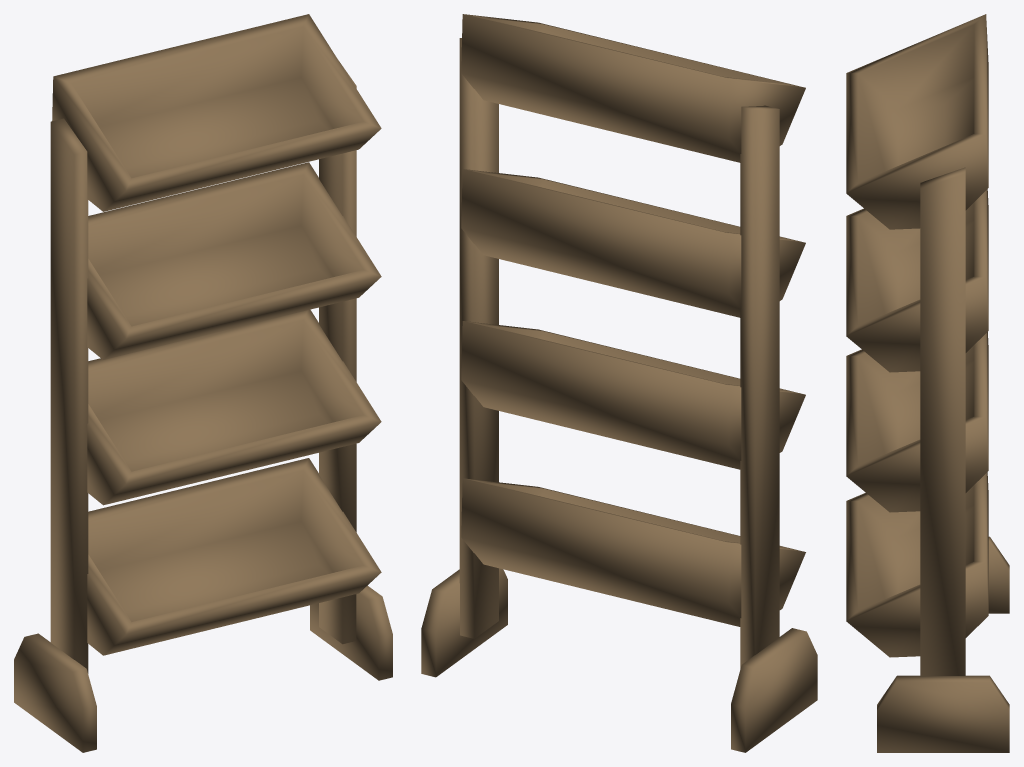
The model's file is rpgpp_ag_shelf_wood_05b.fbx.
3 renders of one model, left to right at view 1: azimuth 30°, elevation 25°; view 2: azimuth 150°, elevation 25°; view 3: azimuth 270°, elevation 25°, orthographic. The views are drawn at different scales.
Parts seen in each view (by area): view 1: rpgpp_ag_shelf_wood_05b; view 2: rpgpp_ag_shelf_wood_05b; view 3: rpgpp_ag_shelf_wood_05b.
Part boxes in pixels (<box>): rpgpp_ag_shelf_wood_05b: <box>14,14,392,752</box>; rpgpp_ag_shelf_wood_05b: <box>421,14,817,752</box>; rpgpp_ag_shelf_wood_05b: <box>846,14,1009,752</box>.
Bounding box in the file's own units: 0.6255 × 1.21 × 0.2966.
